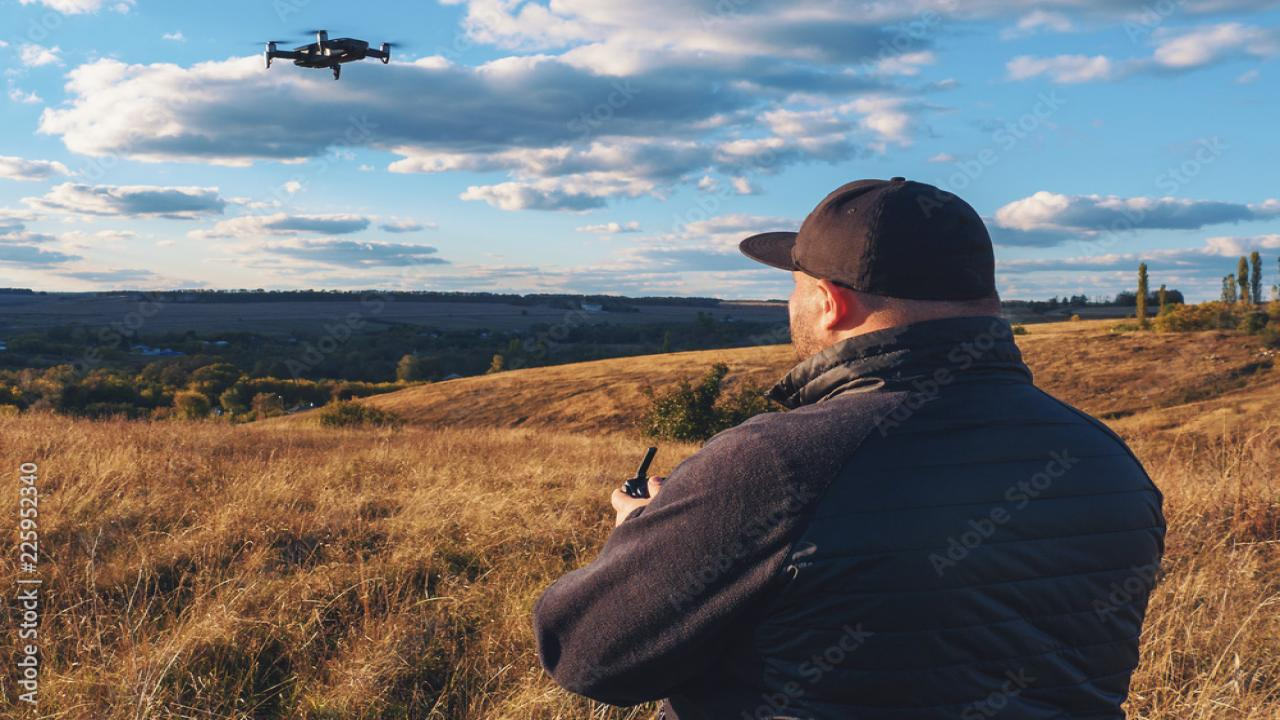Drone: (241, 14, 425, 92)
